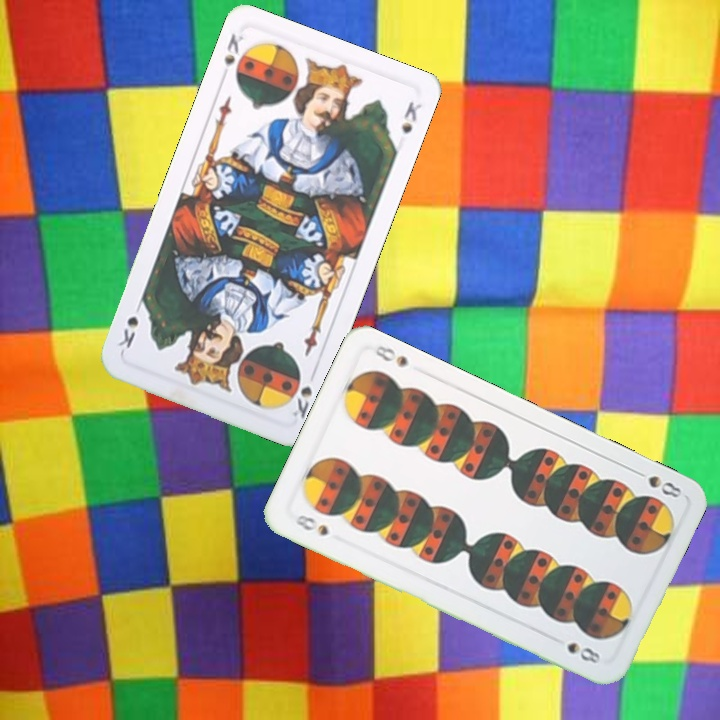S8: (629, 465, 685, 501), (291, 510, 331, 539)
SK: (219, 29, 246, 84), (288, 382, 315, 422)
